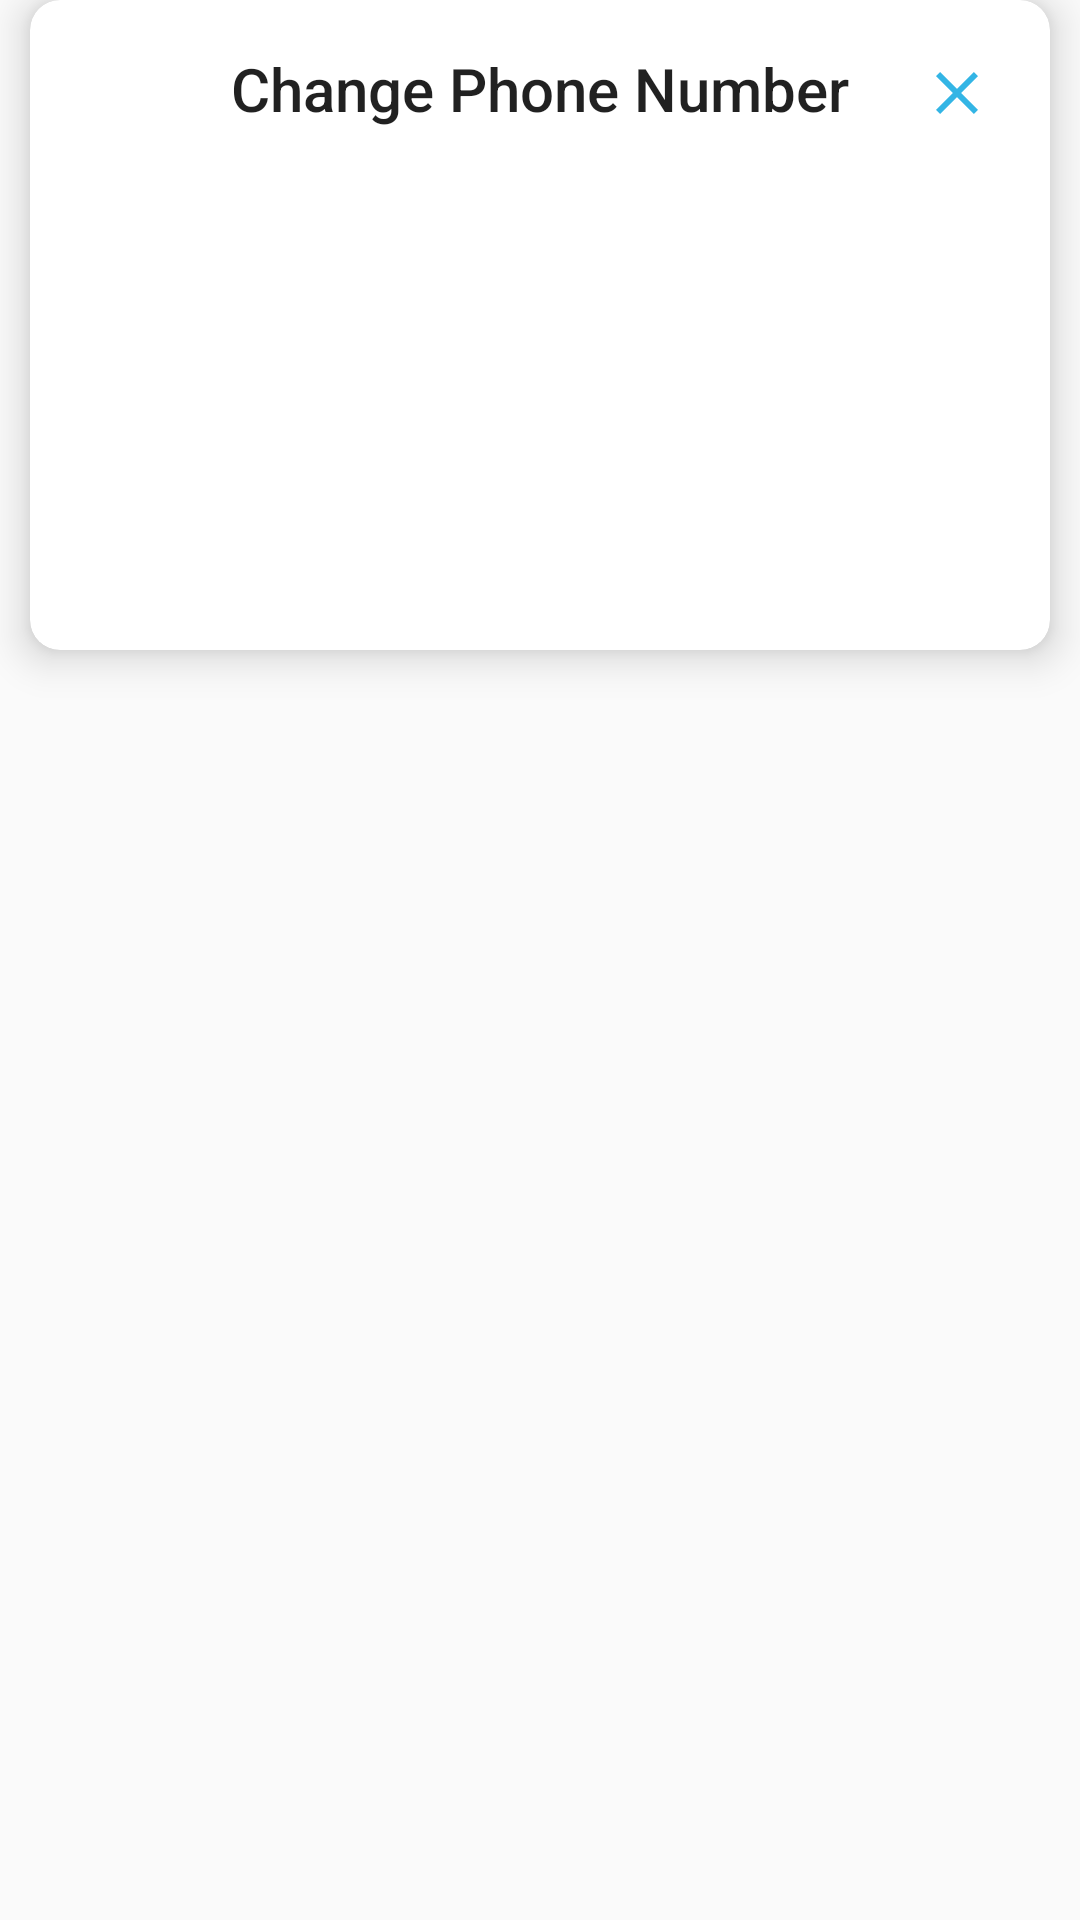

Icon bounding boxes for this 1080x1920 phone screenshot, format (x1, y1, x2, y2):
close: (936, 72, 978, 114)
